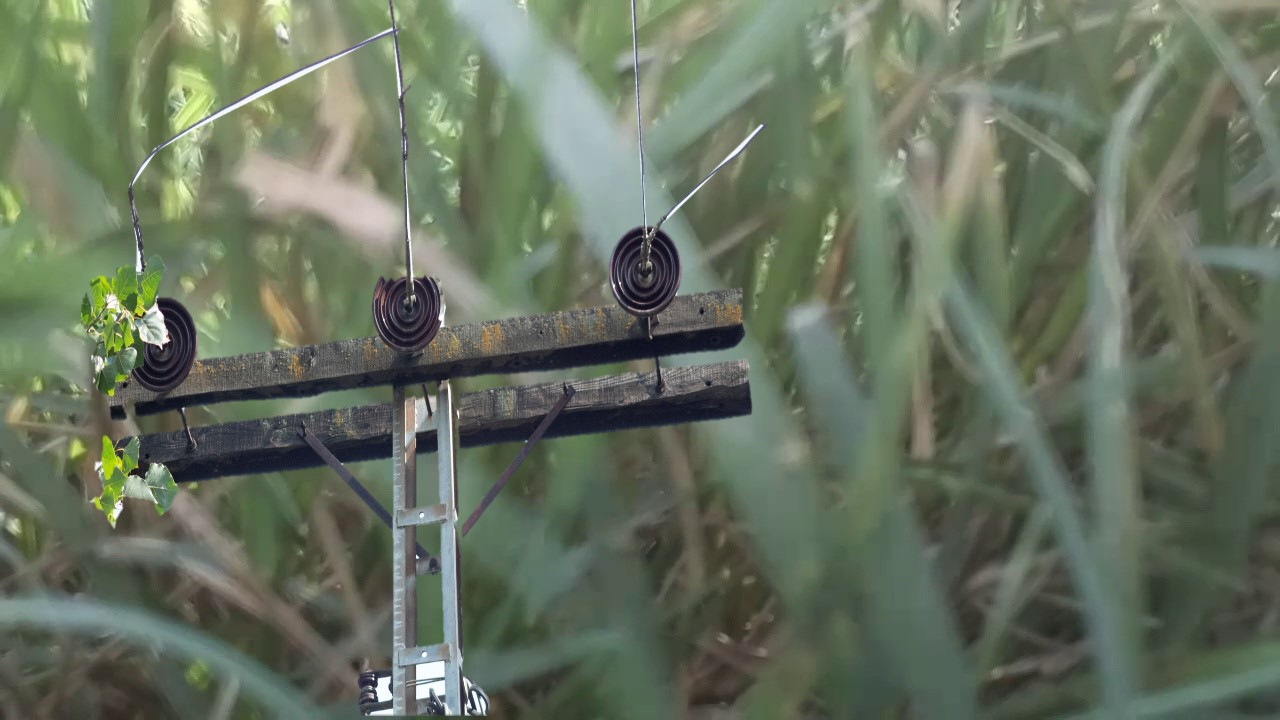defect_disc: (370, 269, 451, 354)
insulator_disc: (607, 225, 686, 317), (150, 292, 208, 391)
